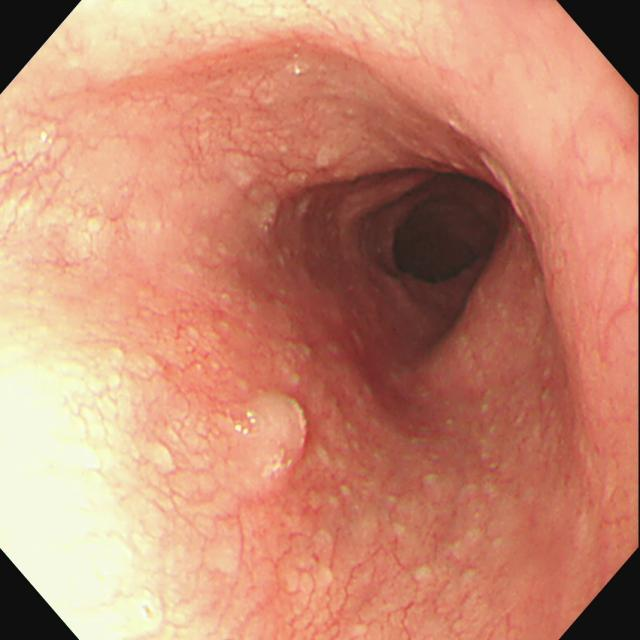E: (395, 204, 473, 280)
J: (242, 390, 312, 476)
U: (2, 362, 118, 640)
